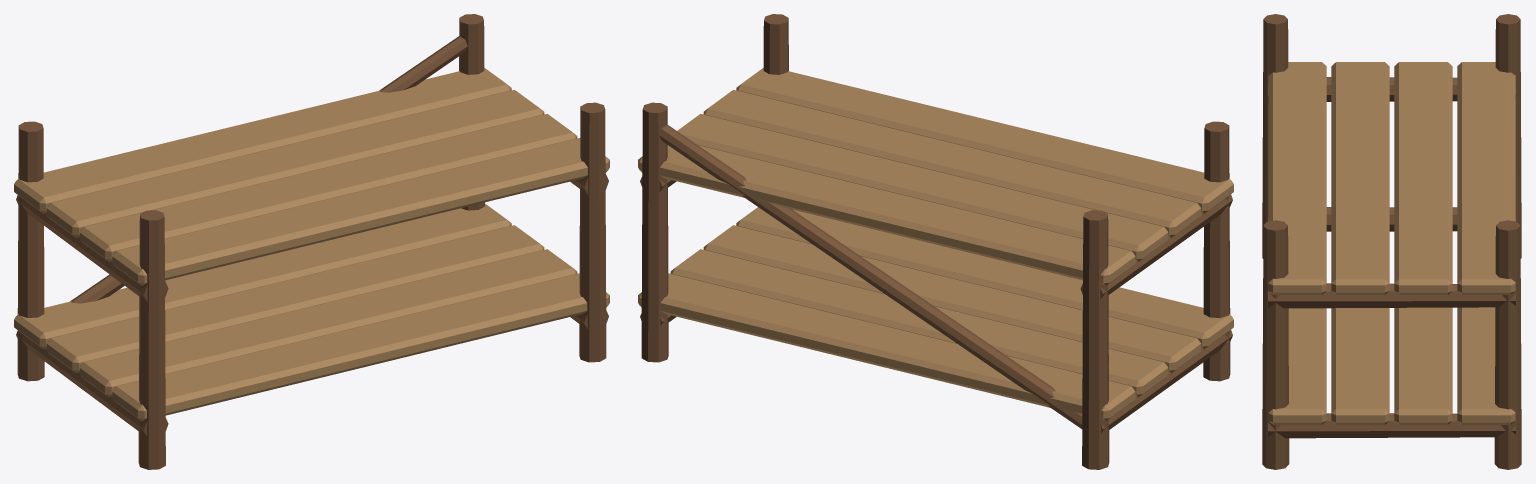
3 renders of one model, left to right at view 1: azimuth 30°, elevation 25°; view 2: azimuth 150°, elevation 25°; view 3: azimuth 270°, elevation 25°, orthographic. The views are drawn at different scales.
Parts seen in each view (by area): view 1: BA-0020 batched; view 2: BA-0020 batched; view 3: BA-0020 batched.
Part boxes in pixels (bbox=[...]): BA-0020 batched: bbox=[14, 14, 609, 469]; BA-0020 batched: bbox=[638, 14, 1233, 469]; BA-0020 batched: bbox=[1262, 14, 1521, 469].
Size of the model in its own units: 1.35 by 0.68 by 0.67.
